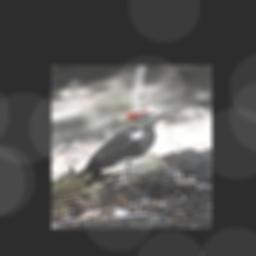Woodpecker: (77, 109, 178, 185)
